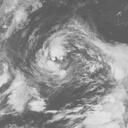cyclone: (30, 22, 125, 96)
